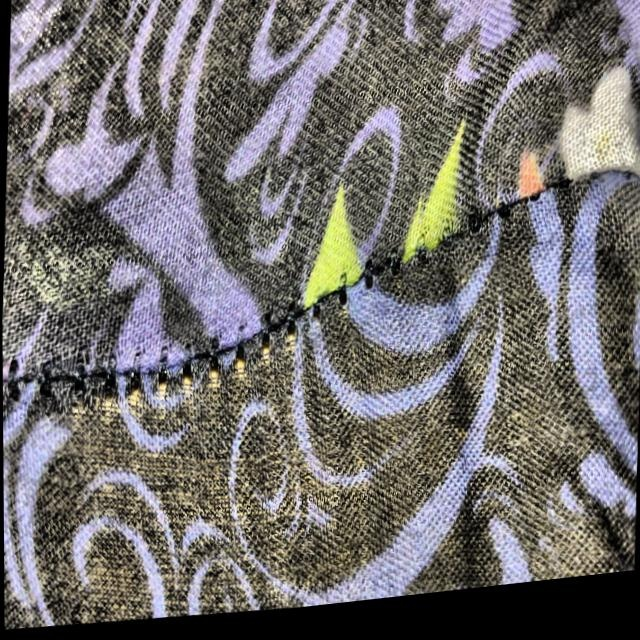seam: (3, 194, 443, 471)
